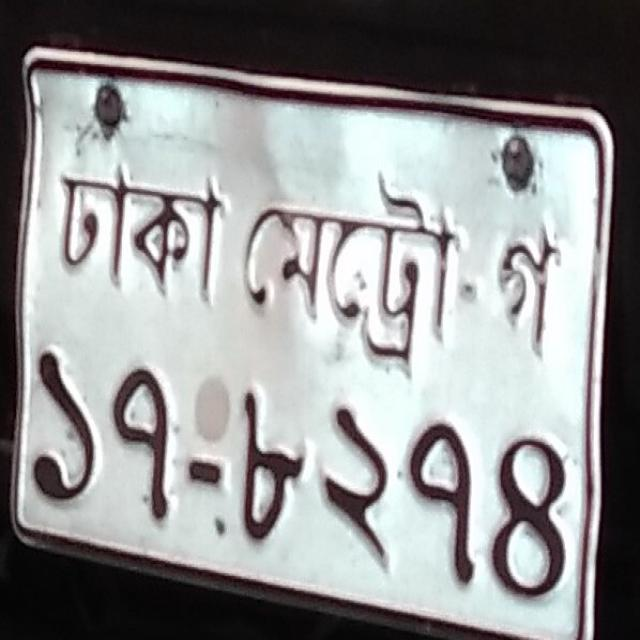numberplate: (8, 41, 617, 639)
